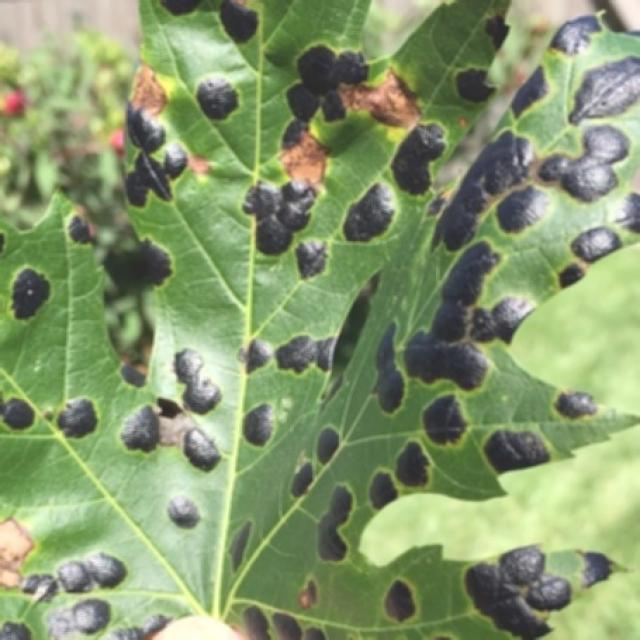Tar_Spot: (130, 20, 504, 546)
